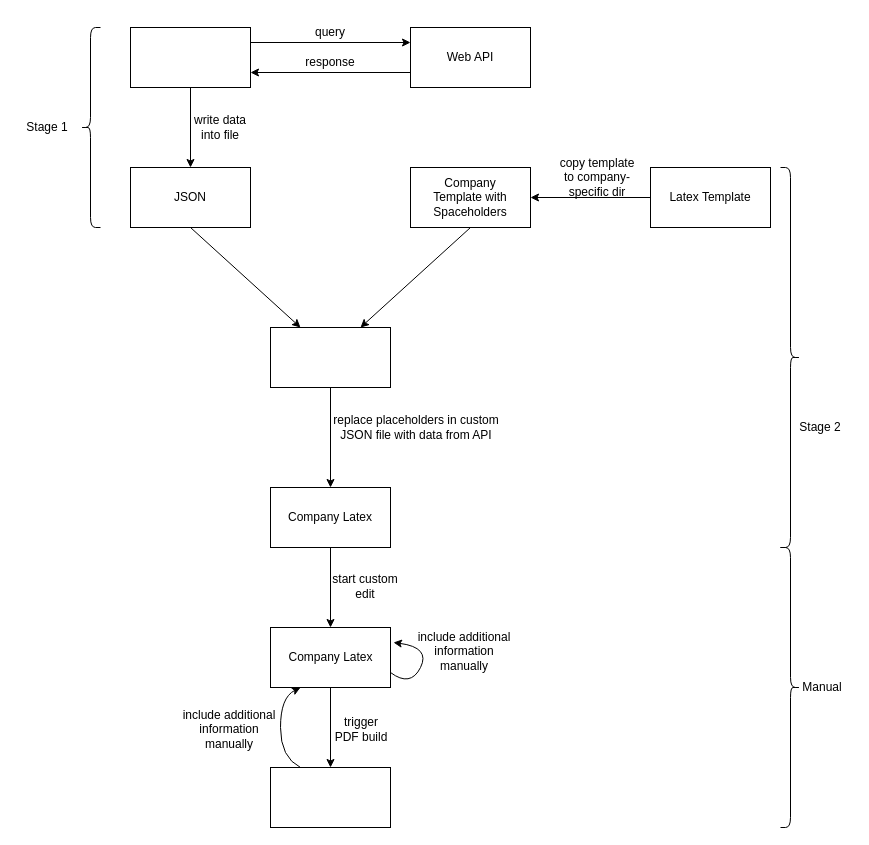
The diagram is 869 pixels wide and 845 high, and some of its shapes have lost their labels. Here are the shapes that lost their labels. From the top down, the centre of each, then its label:
At [190,57]: "stage01.py".
At [330,357]: "stage02.py".
At [330,797]: "Final PDF".
